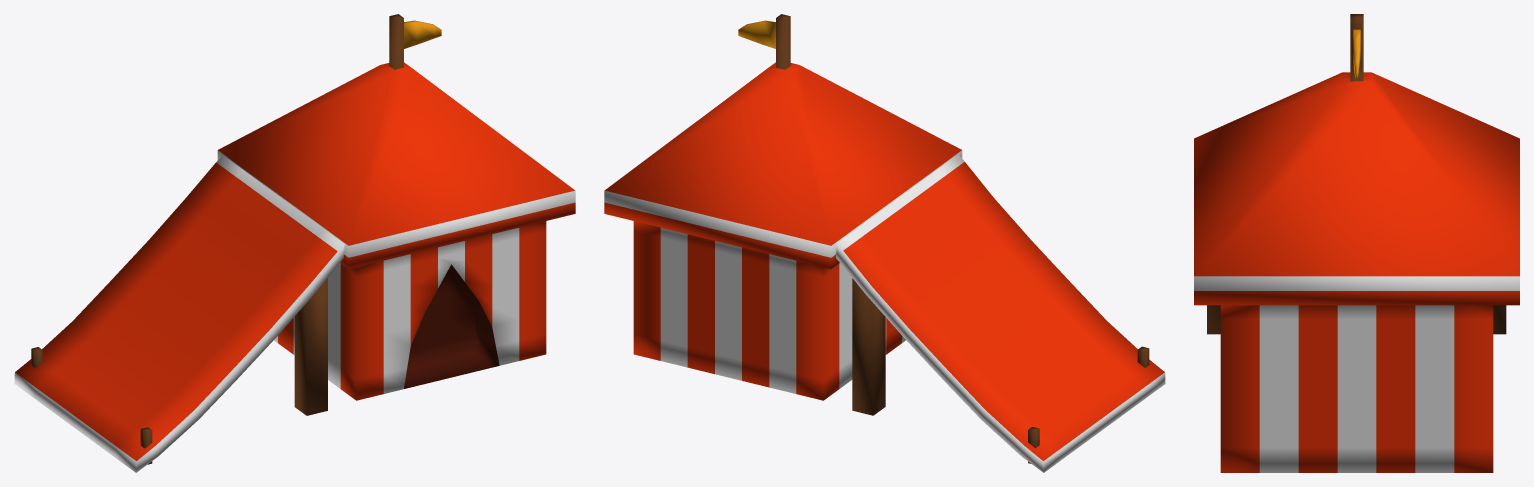
Rendered from barraca rampa.fbx.
The picture shows the model from 3 angles, left to right: view 1: azimuth 30°, elevation 25°; view 2: azimuth 150°, elevation 25°; view 3: azimuth 270°, elevation 25°; orthographic projection. The views are drawn at different scales.
Parts seen in each view (by area): view 1: Barraca rampa; view 2: Barraca rampa; view 3: Barraca rampa.
Boxes of the visible parts, box(x1,y1,x2,y2) form: Barraca rampa: box(14, 14, 575, 472); Barraca rampa: box(604, 14, 1165, 472); Barraca rampa: box(1194, 14, 1519, 472).
Bounding box in the file's own units: 2780 × 2035 × 1451.
